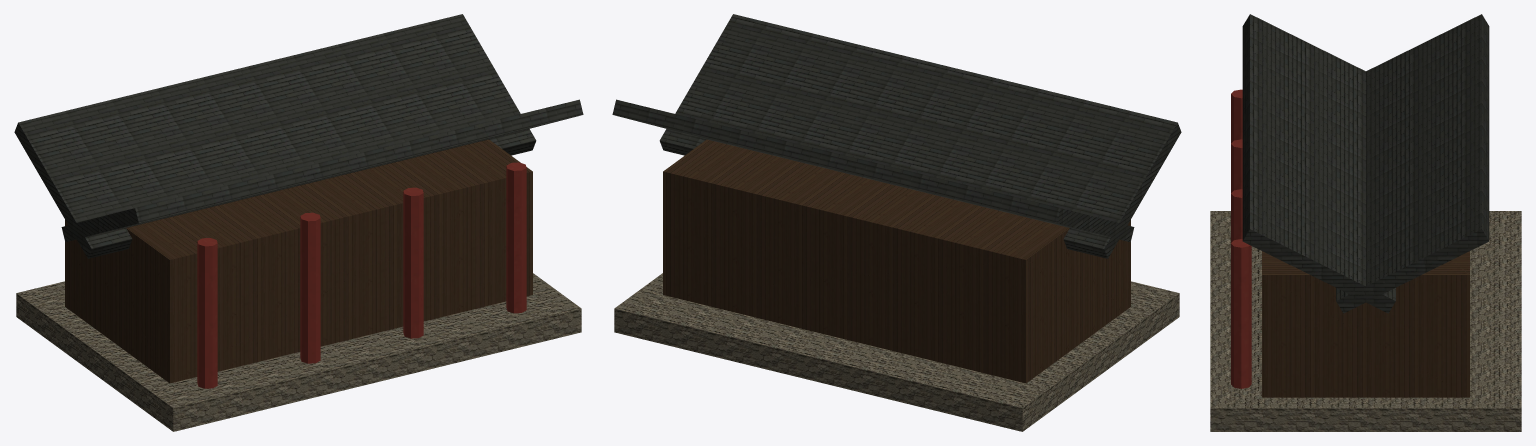
The model's file is skyroute_shrine_01.glb.
The picture shows the model from 3 angles, left to right: view 1: azimuth 30°, elevation 25°; view 2: azimuth 150°, elevation 25°; view 3: azimuth 270°, elevation 25°; orthographic projection.
Parts seen in each view (by area): view 1: skyroute_shrine_01; view 2: skyroute_shrine_01; view 3: skyroute_shrine_01.
Part boxes in pixels (x1=…): skyroute_shrine_01: x1=14, y1=14, x2=583, y2=431; skyroute_shrine_01: x1=612, y1=14, x2=1181, y2=431; skyroute_shrine_01: x1=1210, y1=14, x2=1521, y2=431.
Bounding box in the file's own units: 9.8 × 4.5 × 6.
4 materials, 4 textured.
